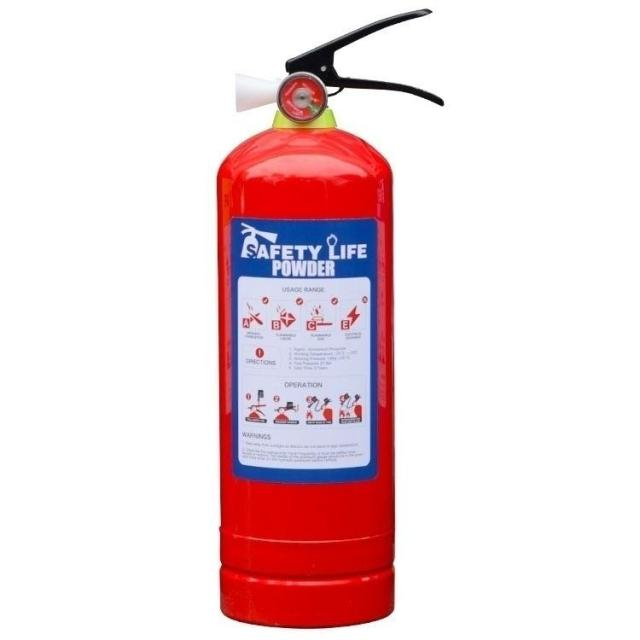fire_extinguisher: (204, 5, 450, 632)
